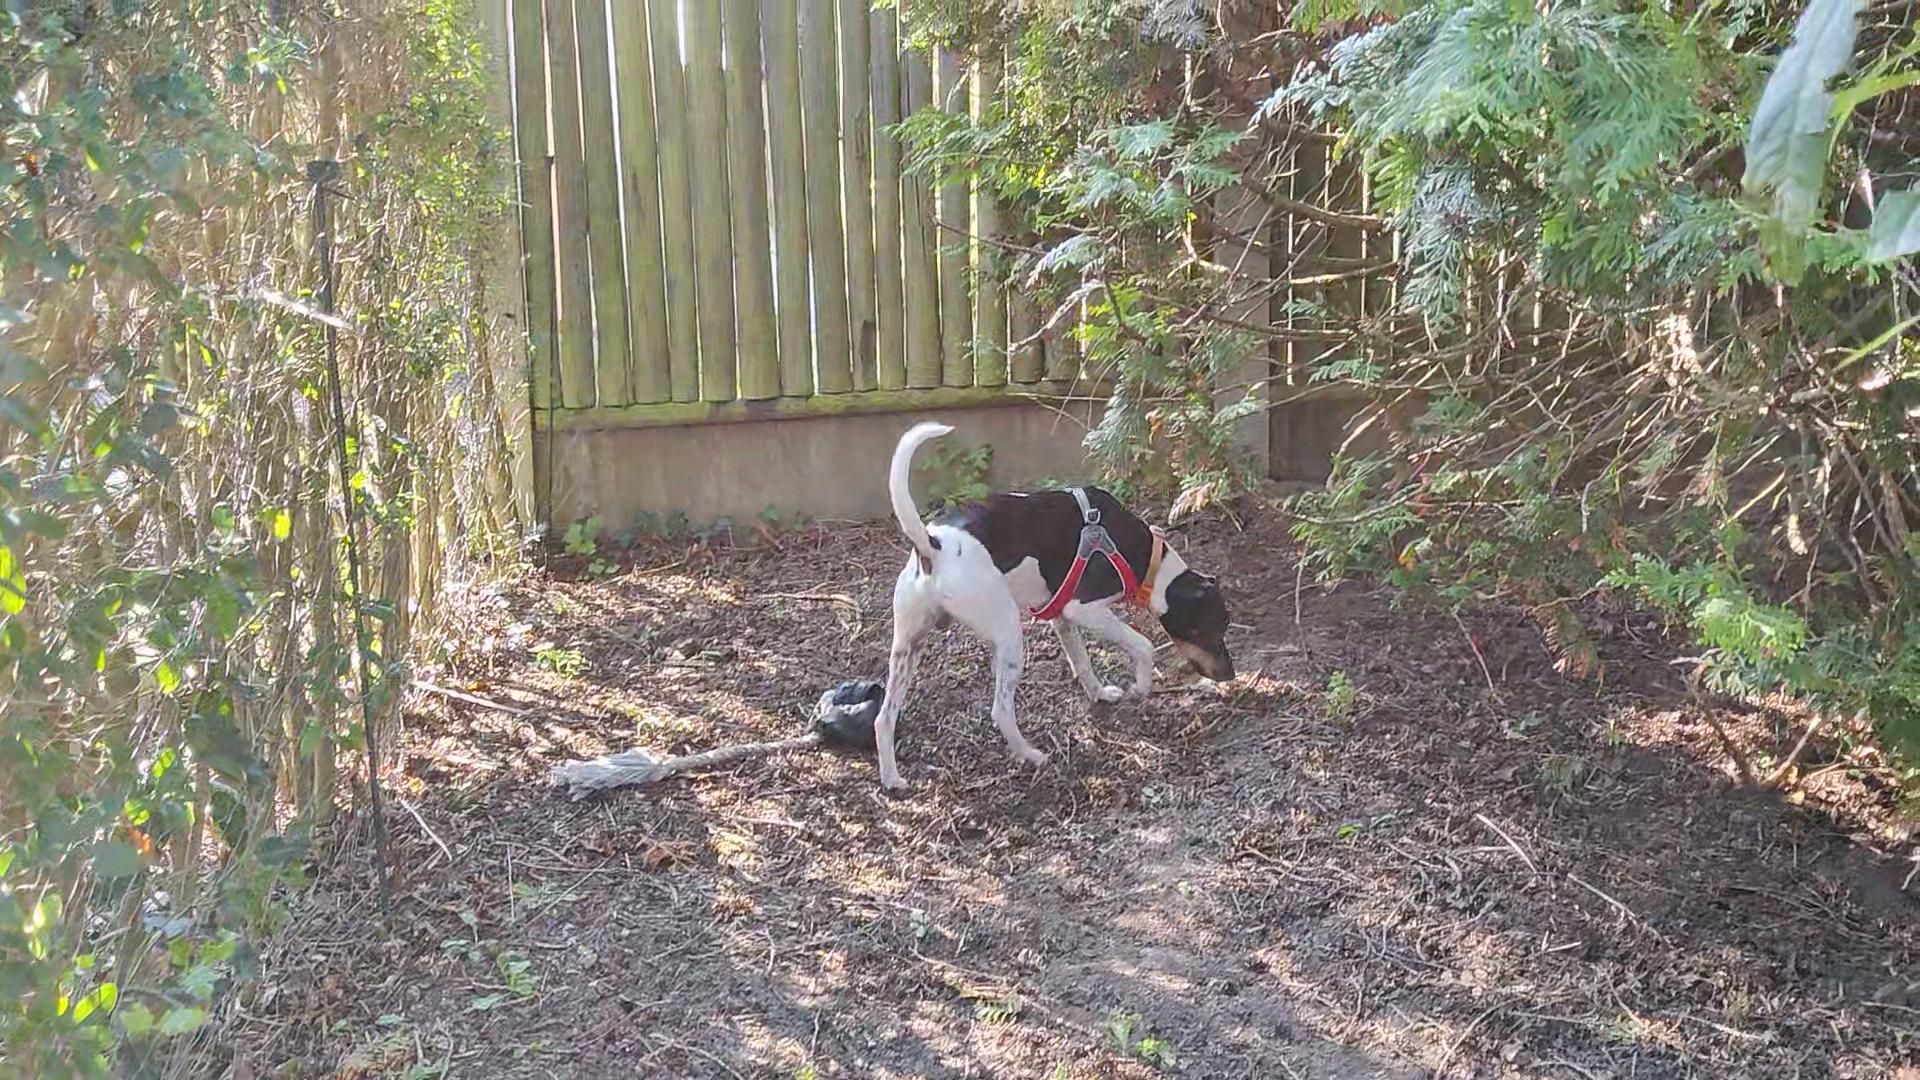Dog: (853, 401, 1245, 808)
